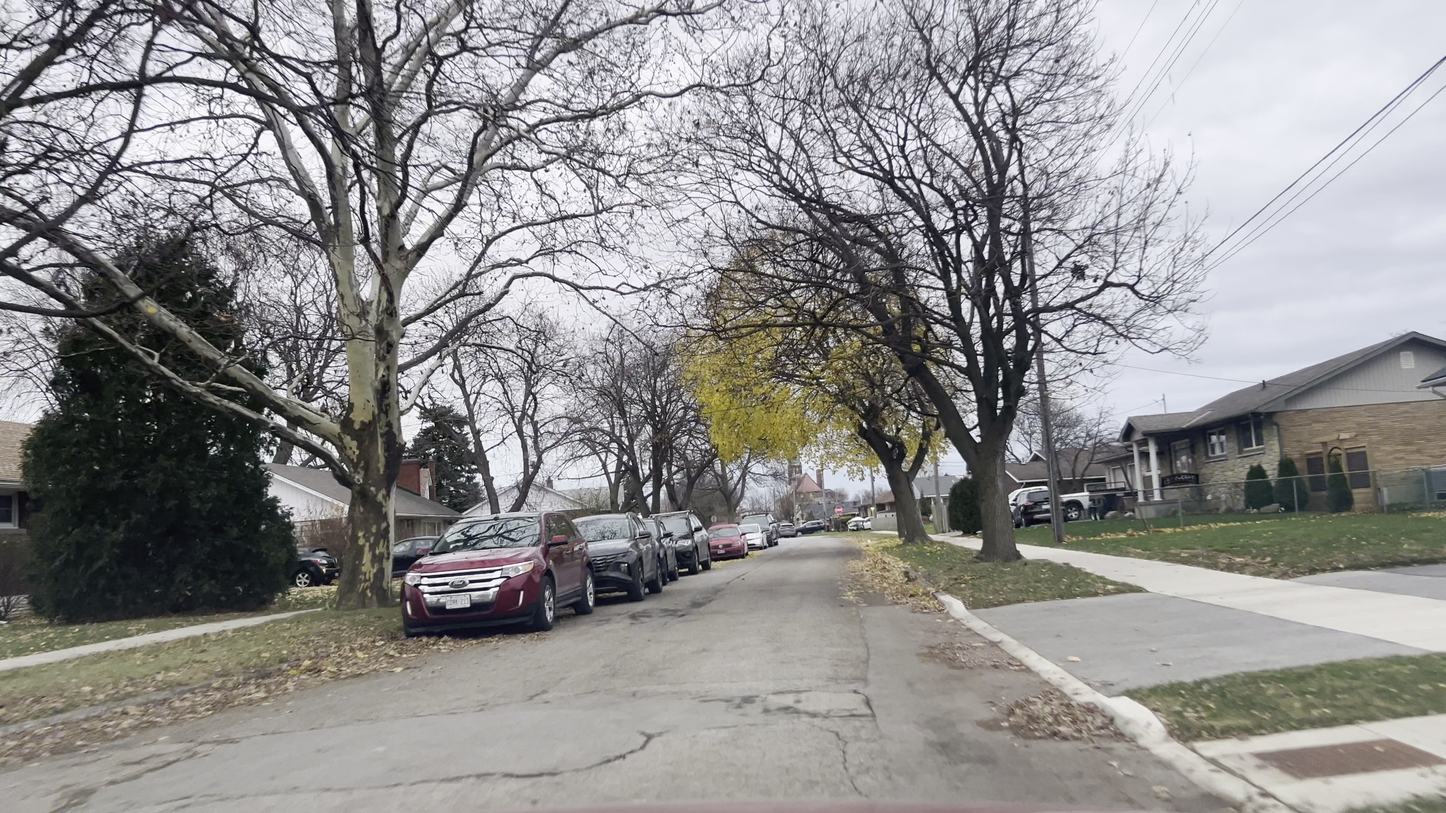cracks: (542, 730, 667, 779), (712, 690, 872, 725), (634, 598, 702, 624)
